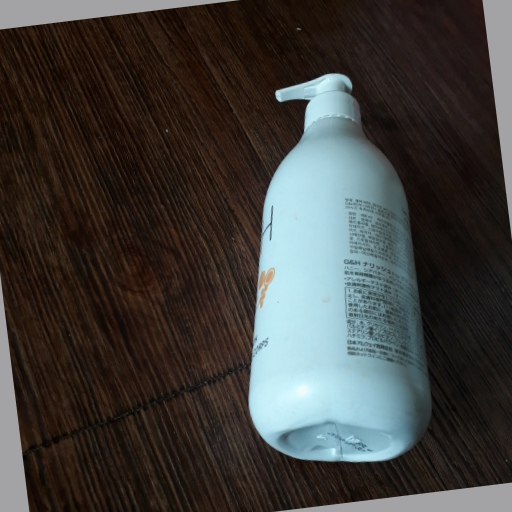Plastic_3: (243, 71, 433, 466)
